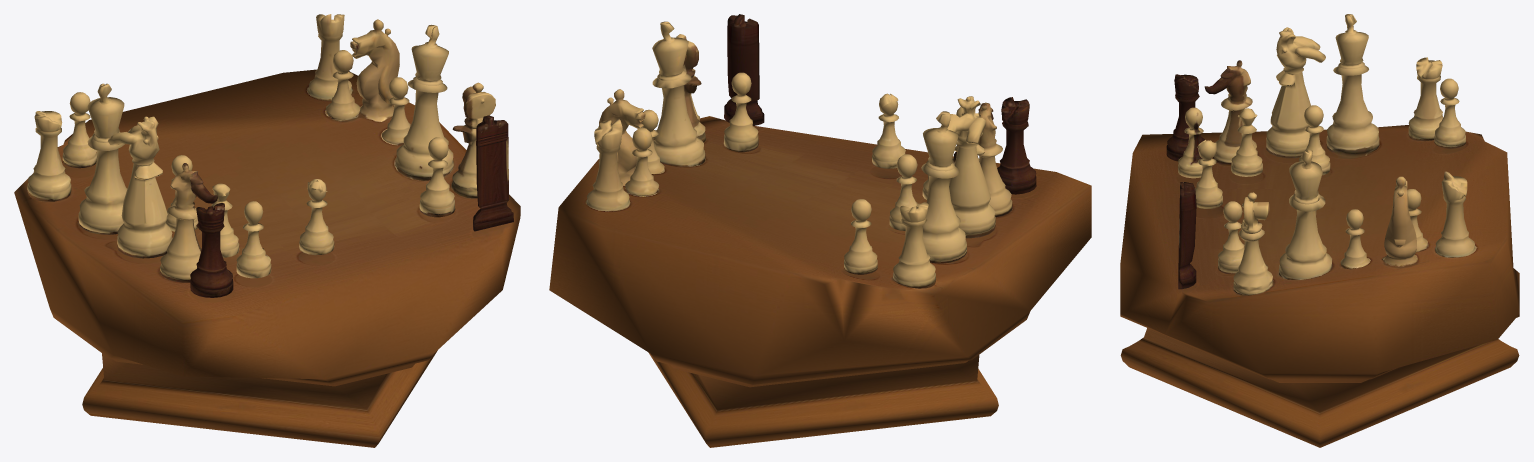
Rendered from chess-set.glb.
3 renders of one model, left to right at view 1: azimuth 30°, elevation 25°; view 2: azimuth 150°, elevation 25°; view 3: azimuth 270°, elevation 25°, orthographic. The views are drawn at different scales.
Parts seen in each view (by area): view 1: tripo_530ee3e1_d91c_4ffc_b7c7_b6f2a241580a; view 2: tripo_530ee3e1_d91c_4ffc_b7c7_b6f2a241580a; view 3: tripo_530ee3e1_d91c_4ffc_b7c7_b6f2a241580a.
Part boxes in pixels (box(x1,y1,x2,y2)): tripo_530ee3e1_d91c_4ffc_b7c7_b6f2a241580a: box(14, 14, 520, 447); tripo_530ee3e1_d91c_4ffc_b7c7_b6f2a241580a: box(549, 14, 1091, 447); tripo_530ee3e1_d91c_4ffc_b7c7_b6f2a241580a: box(1120, 14, 1519, 447).
Size of the model in its own units: 0.9995 by 0.7886 by 0.9995.
1 material, 1 textured.
